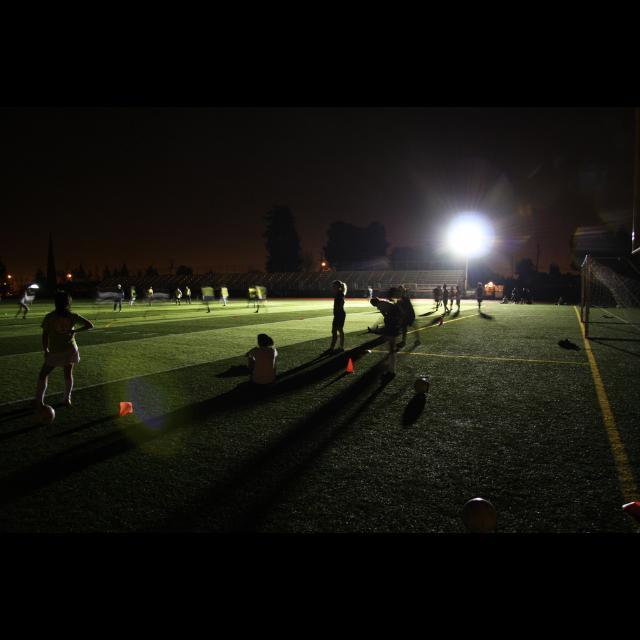Football: (414, 377, 428, 393)
